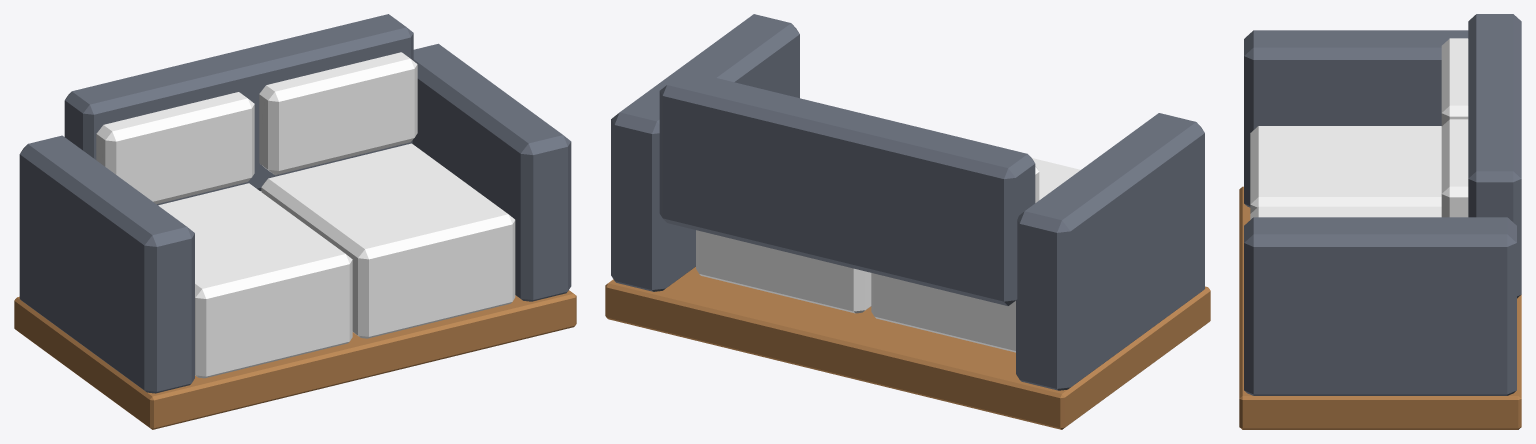
The model's file is sofa-2seat.glb.
3 renders of one model, left to right at view 1: azimuth 30°, elevation 25°; view 2: azimuth 150°, elevation 25°; view 3: azimuth 270°, elevation 25°, orthographic. The views are drawn at different scales.
Visible parts, largest first — view 1: sofa-2seat.tint, sofa-2seat.fabric, sofa-2seat.wood; view 2: sofa-2seat.fabric, sofa-2seat.wood, sofa-2seat.tint; view 3: sofa-2seat.fabric, sofa-2seat.tint, sofa-2seat.wood.
Part boxes in pixels (x1,y1,x2,y2): sofa-2seat.tint: (96,52,515,378); sofa-2seat.fabric: (19,14,571,393); sofa-2seat.wood: (14,290,576,429); sofa-2seat.fabric: (611,14,1204,390); sofa-2seat.wood: (605,267,1210,429); sofa-2seat.tint: (696,158,1080,352); sofa-2seat.fabric: (1244,14,1521,395); sofa-2seat.tint: (1250,38,1468,219); sofa-2seat.wood: (1239,186,1521,429).
Size of the model in its own units: 1.6 by 0.82 by 0.9.
